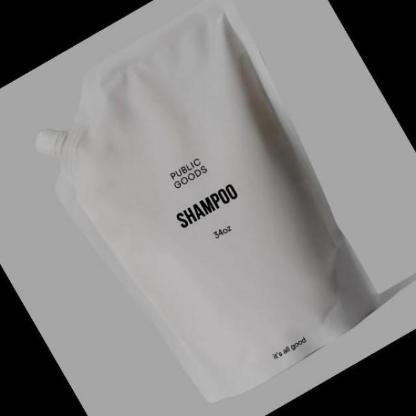Plastic Packaging: (35, 0, 379, 402)
